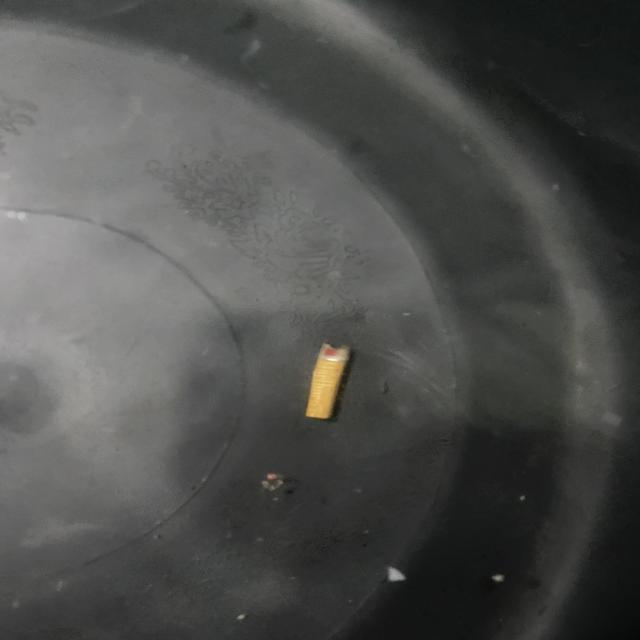Cigarette Filter: (286, 332, 368, 425)
